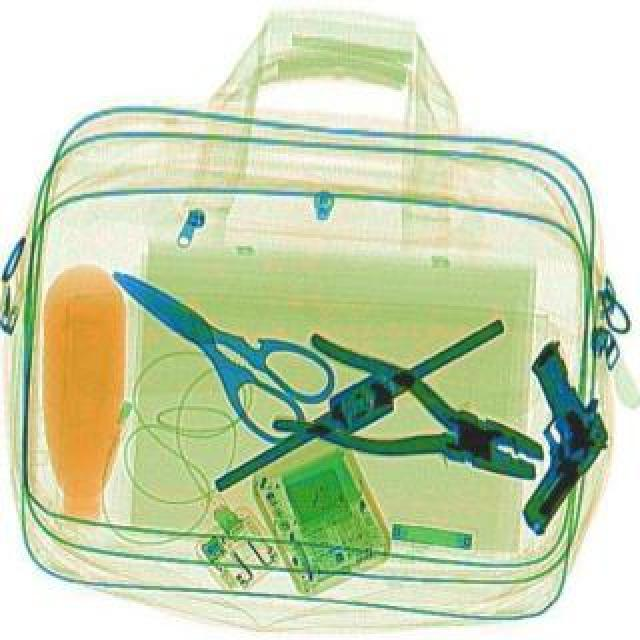gun: (446, 338, 638, 530)
pliers: (78, 234, 346, 450)
wrench: (268, 330, 560, 516)
